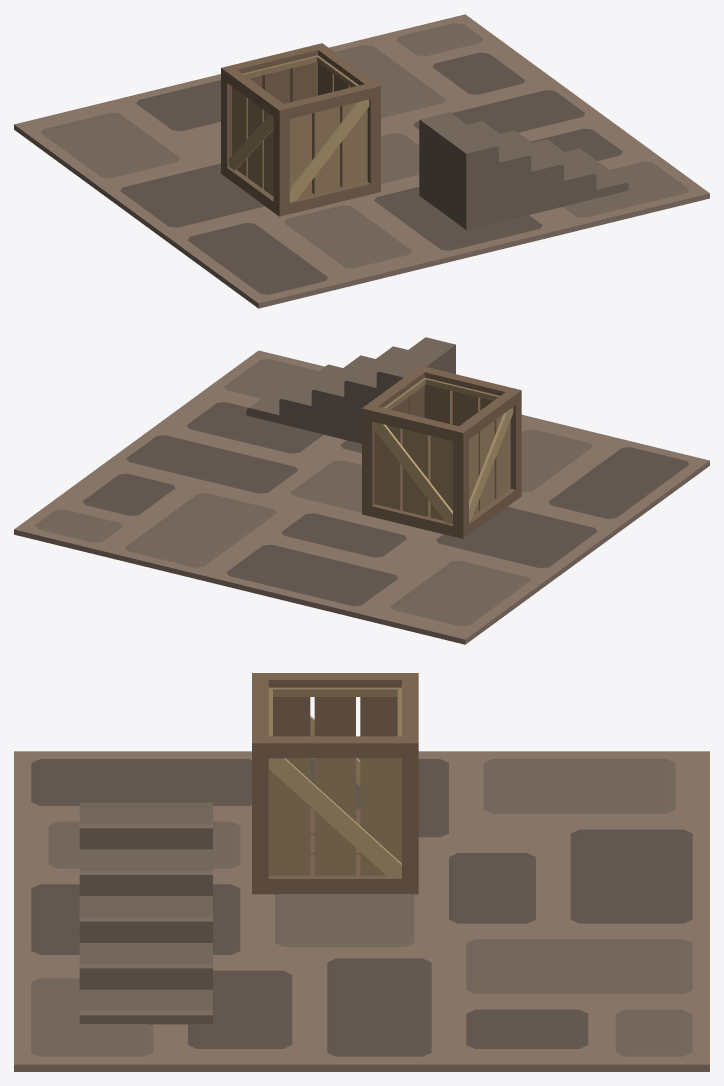
File: leveltest.gltf
3 views of the same model, one above another, from view 1: azimuth 30°, elevation 25°; view 2: azimuth 150°, elevation 25°; view 3: azimuth 270°, elevation 25° (orthographic). The views are drawn at different scales.
Visible parts, largest first — view 1: object1, object5, object13, object2, object3; view 2: object1, object5, object13, object4, object3; view 3: object1, object5, object13, object6.
Boxes of the visible parts, <box> form: object1: <box>14,14,709,308</box>; object5: <box>221,43,380,216</box>; object13: <box>419,112,628,229</box>; object2: <box>289,99,369,201</box>; object3: <box>229,114,273,170</box>; object1: <box>14,350,709,644</box>; object5: <box>362,365,521,538</box>; object13: <box>246,337,455,443</box>; object4: <box>373,422,452,524</box>; object3: <box>469,407,513,521</box>; object1: <box>14,751,709,1071</box>; object5: <box>252,673,418,894</box>; object13: <box>79,802,212,1024</box>; object6: <box>268,758,401,877</box>.
Size of the model in its own units: 18.31 by 4.77 by 17.18.
